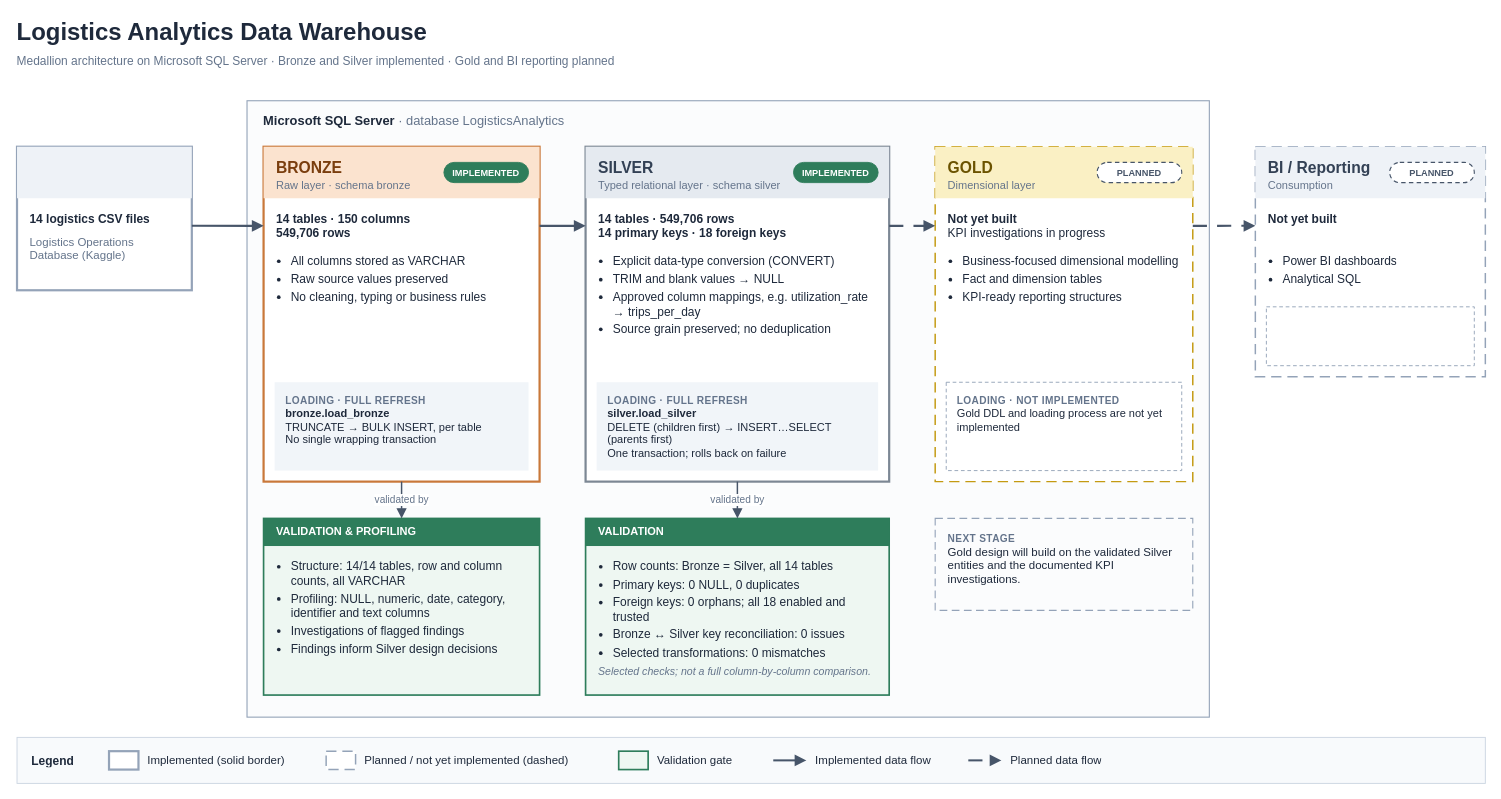
Image size: 1501x799. Some labels were removed from this diagram. The shapes that lost their labels are listed below. From the top down, each one's box as (x1, y1, x2, y2) in pixels, then its label:
(17, 146, 191, 198): Source data Flat files
(1265, 306, 1474, 366): STATUS Dashboard implementation is not yet complete
